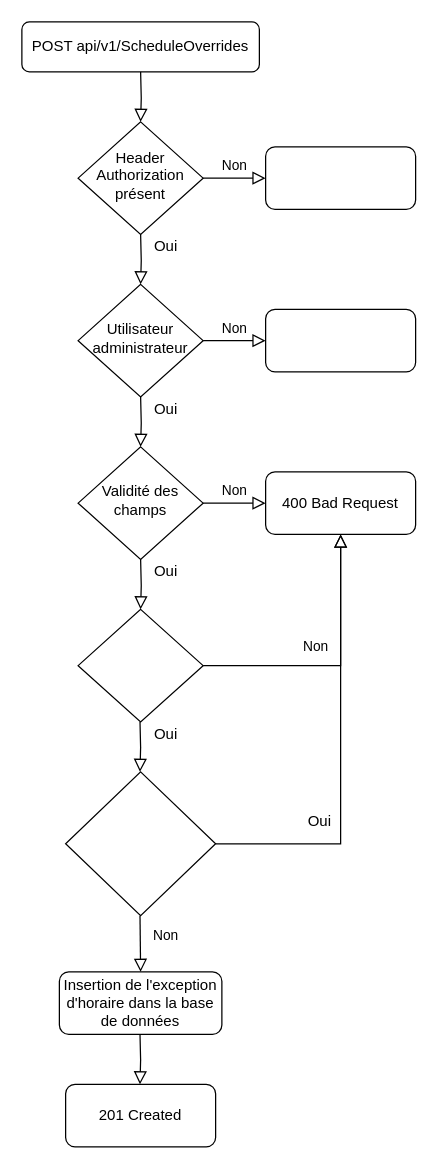
Some shapes in this 438 by 1169 pixel diagram are drawn without their labels. The centre of each missing label's shape, as x and y in pixels:
401 Unauthorized: [340,177]
403 Forbidden: [340,340]
Chevauchement de date: [140,843]
Validité du format de date: [140,665]
